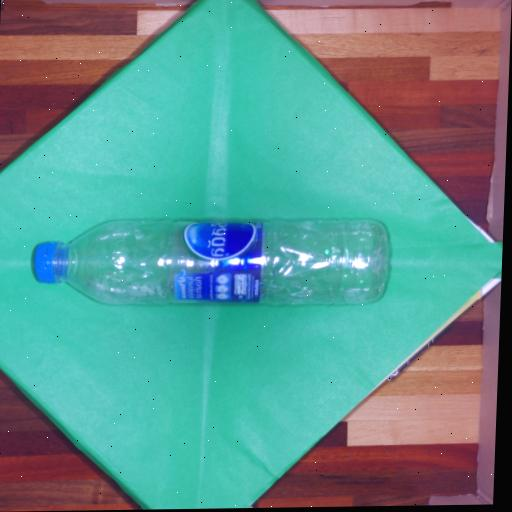bottle: (28, 211, 394, 314)
